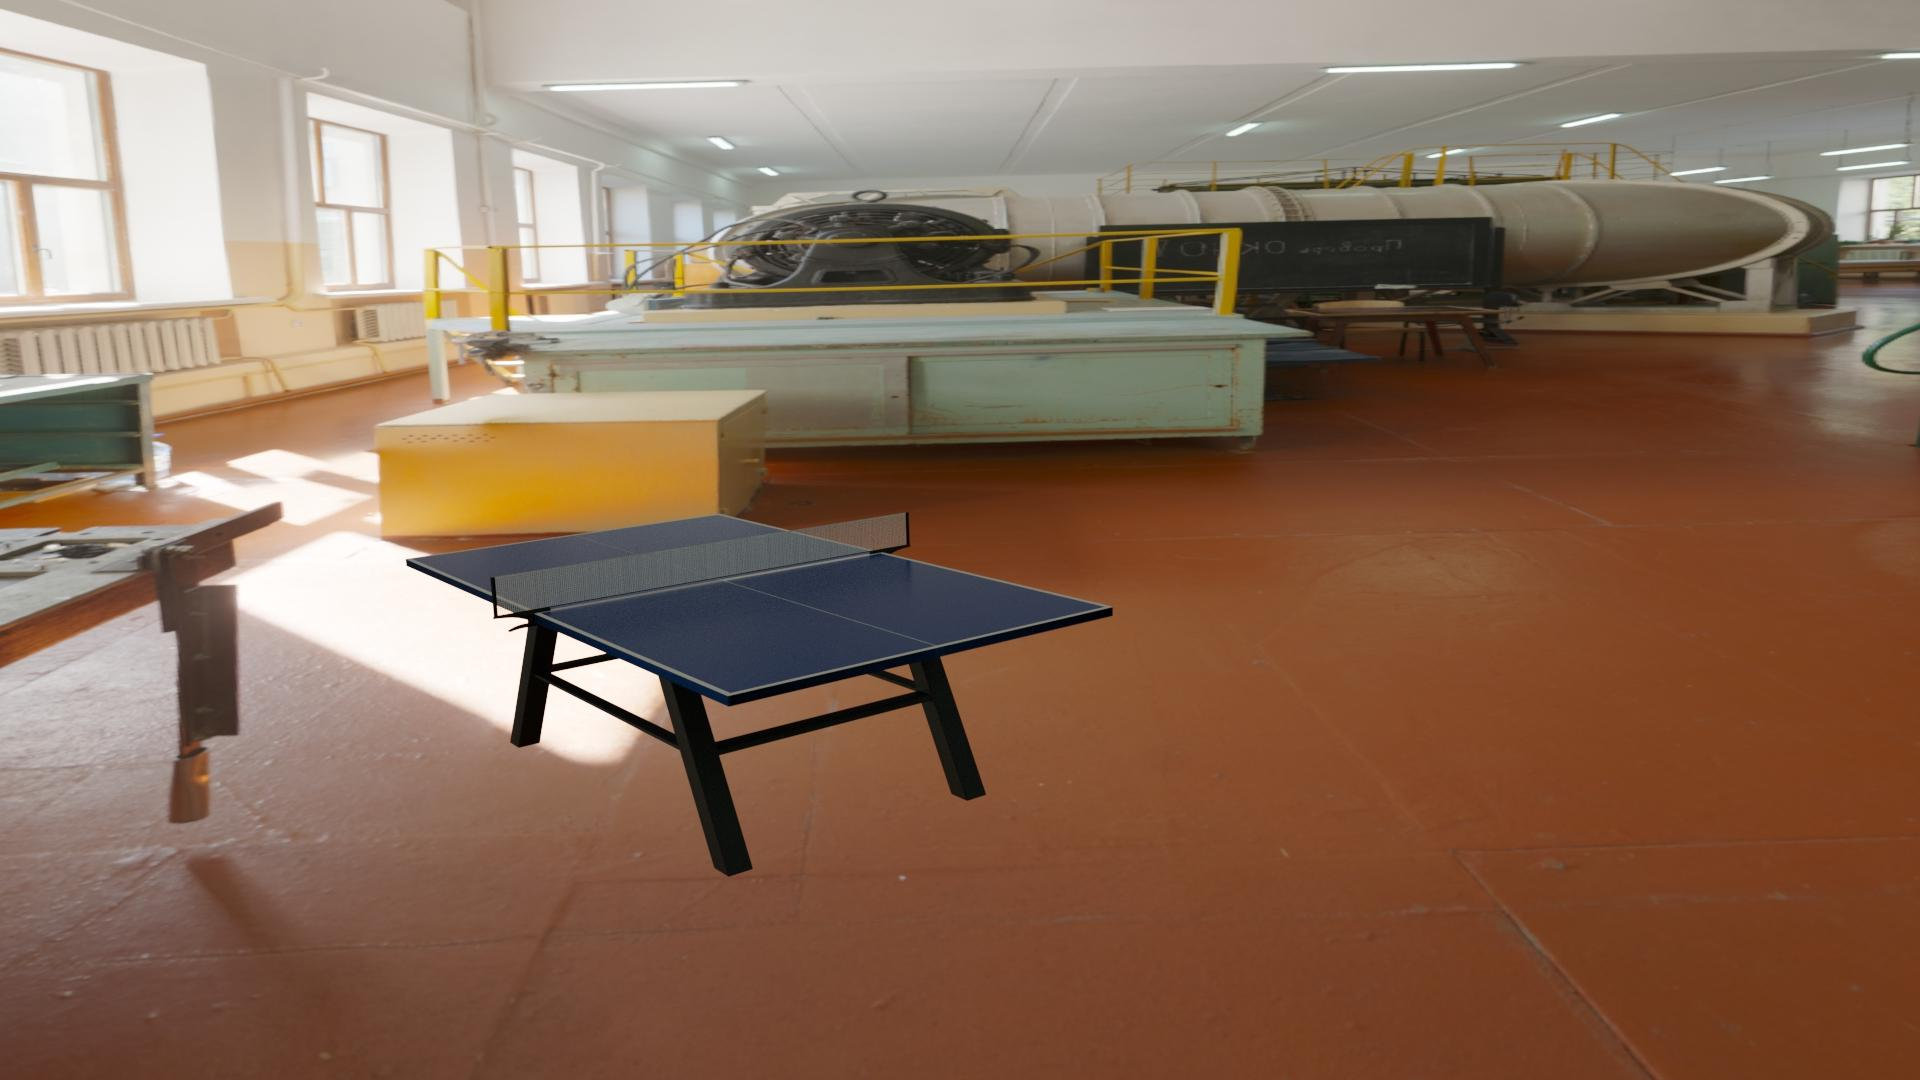table: (411, 514, 1105, 694)
